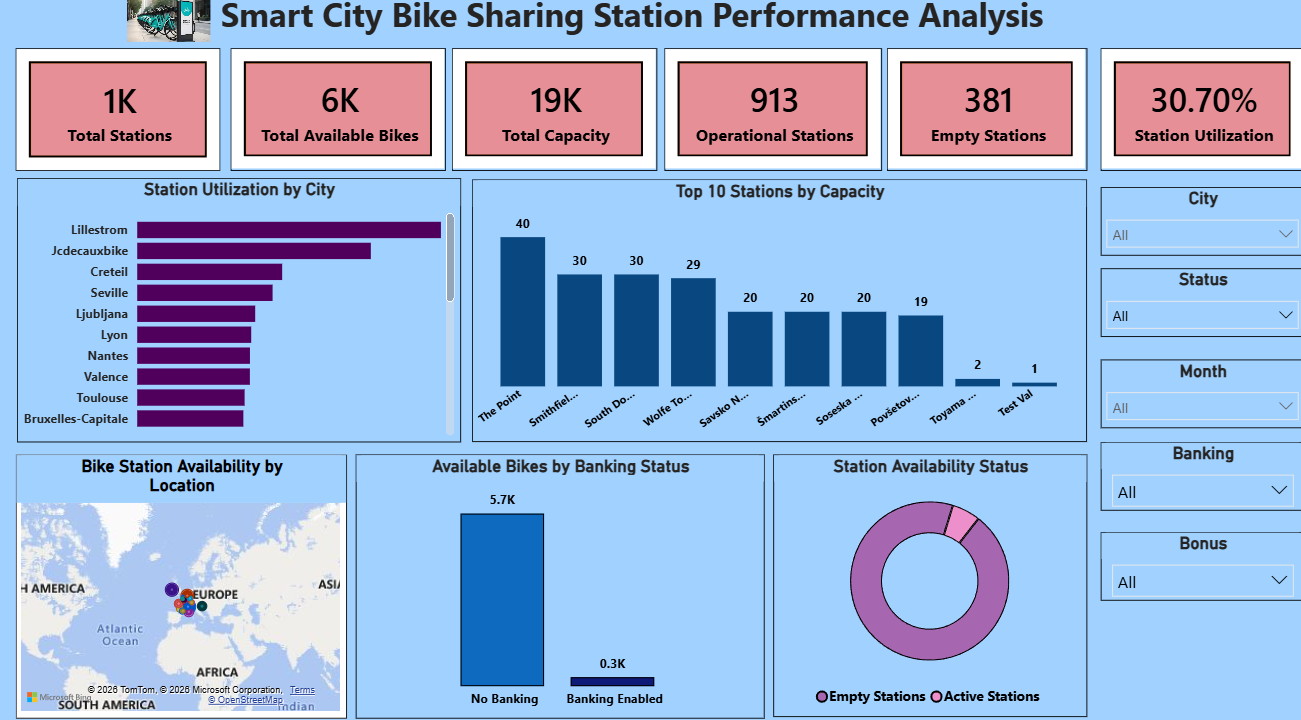

The dashboard page shown, as its layout file describes it:
{"tool":"powerbi","page":{"name":"Page 1","canvas":[1280,720],"ordinal":0},"visuals":[{"type":"textbox","box":[218.9,0,814.4,63.6],"z":0},{"type":"cardVisual","fields":{"Data":["Measure.Total Stations"]},"box":[18.3,55,200,120],"z":1000},{"type":"cardVisual","fields":{"Data":["Measure.Total Available Bikes"]},"box":[228.7,55,210.3,119.8],"z":2000},{"type":"cardVisual","fields":{"Data":["Measure.Total Capacity"]},"box":[445.1,55,200.5,119.8],"z":3000},{"type":"cardVisual","fields":{"Data":["Measure.Empty Stations"]},"box":[870.7,55,195.7,119.8],"z":4000},{"type":"cardVisual","fields":{"Data":["Measure.Operational Stations"]},"box":[653,55,212.8,119.8],"z":5000},{"type":"cardVisual","fields":{"Data":["Measure.Station Utilization %"]},"box":[1079.8,55,199,119.8],"z":6000},{"type":"map","title":"Bike Station Availability by Location","fields":{"Y":["Dim_Station.Latitude"],"X":["Dim_Station.Longitude"],"Series":["Dim_City.City"],"Size":["Measure.Total Available Bikes"]},"box":[18.3,452.4,324.1,258],"z":7000},{"type":"clusteredBarChart","title":"Station Utilization by City","fields":{"Category":["Dim_City.City"],"Y":["Measure.Station Utilization %"]},"box":[19.6,182.2,434.1,258],"z":8000},{"type":"slicer","title":"City","fields":{"Values":["Cleaned.City"]},"box":[1079.8,190.8,199.3,67],"z":9000},{"type":"slicer","title":"Status","fields":{"Values":["Cleaned.Status"]},"box":[1079.8,270.2,199.3,67.3],"z":10000},{"type":"slicer","title":"Banking","fields":{"Values":["Cleaned.Banking"]},"box":[1079.8,440.2,199.3,67],"z":11000},{"type":"slicer","title":"Bonus","fields":{"Values":["Cleaned.Bonus"]},"box":[1079.8,528.3,199.3,67],"z":12000},{"type":"slicer","title":"Month","fields":{"Values":["Cleaned.Month"]},"box":[1079.8,359.5,199.3,67],"z":13000},{"type":"clusteredColumnChart","title":"Top 10 Stations by Capacity","fields":{"Category":["Dim_Station.Station Name"],"Y":["Measure.Total Capacity"]},"box":[464.7,183.4,601.6,256.8],"z":14000},{"type":"donutChart","title":"Station Availability Status","fields":{"Y":["Measure.Total Empty Stands","Cleaned.Non Empty Stations"]},"box":[759.4,452.4,306.9,256.8],"z":15000},{"type":"clusteredColumnChart","title":"Available Bikes by Banking Status","fields":{"Y":["Measure.Total Available Bikes"],"Category":["Fact_StationStatus.Banking Status"]},"box":[351,452.4,399.9,258],"z":16000},{"type":"image","box":[127.2,0,81.9,48.9],"z":16001}]}

Visuals, with their boxes in screenshot pixels (x1, y1, x2, y2), scaled from the page's 1280x720 canvas onto the 1301x720 screenshot:
textbox: [x1=222, y1=0, x2=1050, y2=64]
cardVisual - Measure.Total Stations: [x1=19, y1=55, x2=222, y2=175]
cardVisual - Measure.Total Available Bikes: [x1=232, y1=55, x2=446, y2=175]
cardVisual - Measure.Total Capacity: [x1=452, y1=55, x2=656, y2=175]
cardVisual - Measure.Empty Stations: [x1=885, y1=55, x2=1084, y2=175]
cardVisual - Measure.Operational Stations: [x1=664, y1=55, x2=880, y2=175]
cardVisual - Measure.Station Utilization %: [x1=1098, y1=55, x2=1300, y2=175]
"Bike Station Availability by Location" map: [x1=19, y1=452, x2=348, y2=710]
"Station Utilization by City" clusteredBarChart: [x1=20, y1=182, x2=461, y2=440]
"City" slicer: [x1=1098, y1=191, x2=1300, y2=258]
"Status" slicer: [x1=1098, y1=270, x2=1300, y2=338]
"Banking" slicer: [x1=1098, y1=440, x2=1300, y2=507]
"Bonus" slicer: [x1=1098, y1=528, x2=1300, y2=595]
"Month" slicer: [x1=1098, y1=360, x2=1300, y2=426]
"Top 10 Stations by Capacity" clusteredColumnChart: [x1=472, y1=183, x2=1084, y2=440]
"Station Availability Status" donutChart: [x1=772, y1=452, x2=1084, y2=709]
"Available Bikes by Banking Status" clusteredColumnChart: [x1=357, y1=452, x2=763, y2=710]
image: [x1=129, y1=0, x2=213, y2=49]
